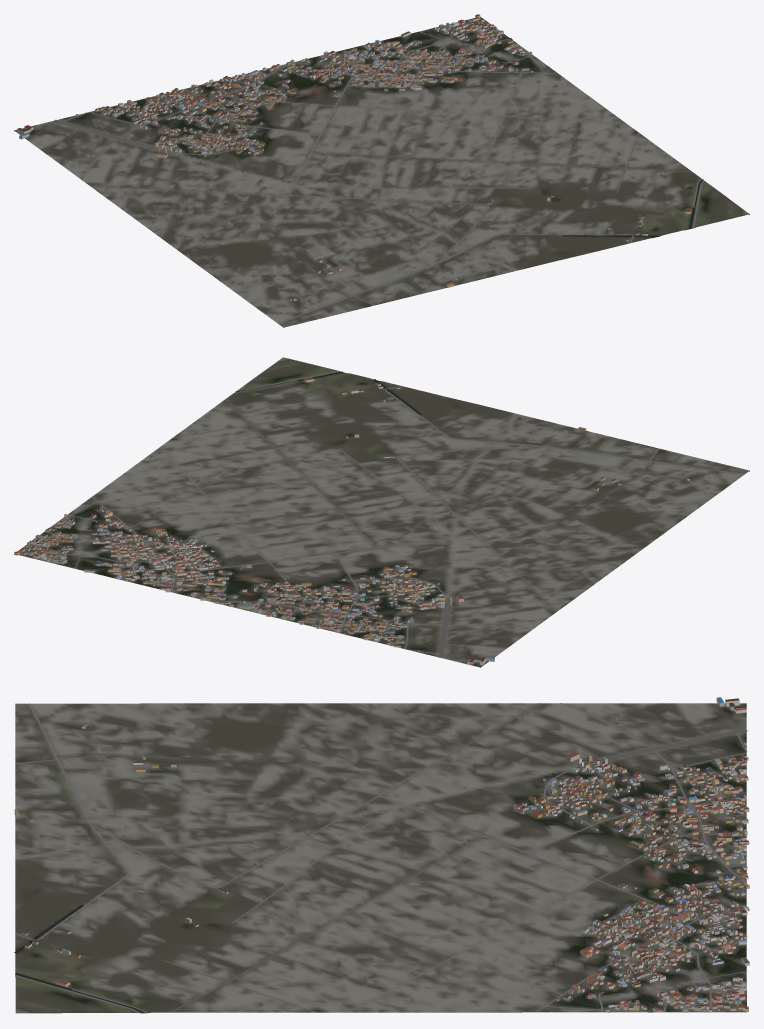
The picture shows the model from 3 angles, top to bottom: view 1: azimuth 30°, elevation 25°; view 2: azimuth 150°, elevation 25°; view 3: azimuth 270°, elevation 25°; orthographic projection. The views are drawn at different scales.
Visible parts, largest first — view 1: ground, buildings, roads; view 2: ground, buildings, roads; view 3: ground, buildings, roads.
Boxes of the visible parts, <box> form: ground: <box>14,17,749,327</box>; buildings: <box>17,14,691,300</box>; roads: <box>53,18,704,323</box>; ground: <box>14,357,749,667</box>; buildings: <box>14,377,691,665</box>; roads: <box>23,371,744,657</box>; ground: <box>15,703,746,1013</box>; buildings: <box>14,697,749,1012</box>; roads: <box>15,703,747,1012</box>.
Bounding box in the file's own units: 1417 × 16.71 × 1411.
